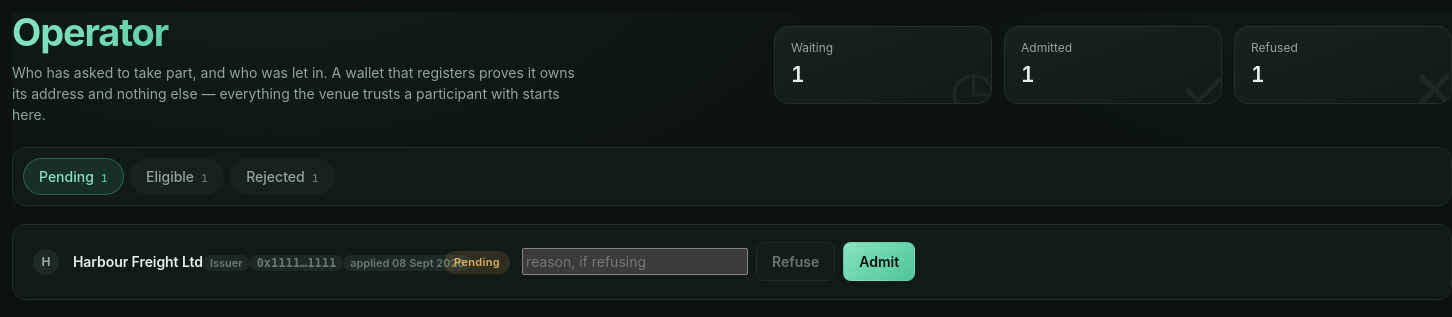
Test: the operator console › opens on who is waiting, and can show the rest
Check: the text "Harbour Freight Ltd" is shown, box [73,253,203,270]
Click the tab "Rejected1" at (282, 176), box [230,158,335,195]
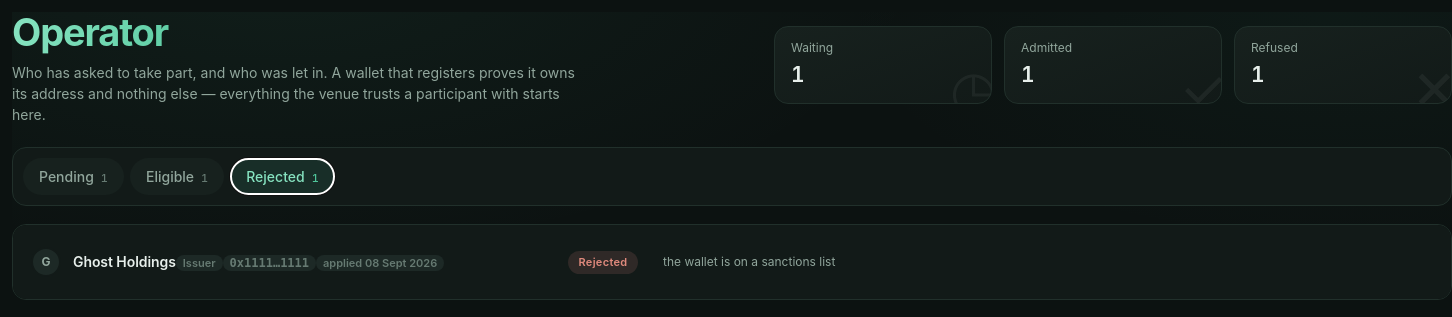
Check: the text "Ghost Holdings" is shown, box [73,253,176,270]
Check: the text "the wallet is on a sanctions list" is shown, box [663,253,835,271]
